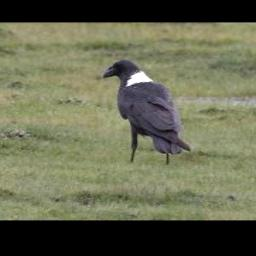Crow: (105, 58, 192, 163)
